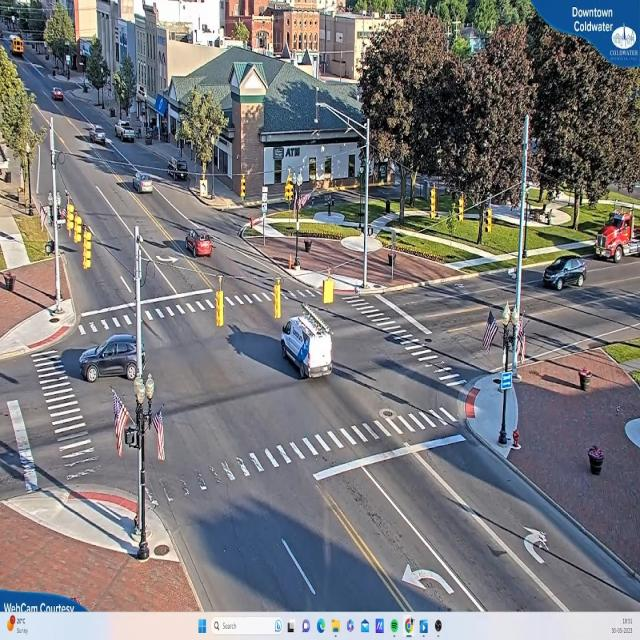car: (79, 336, 141, 383), (542, 256, 587, 291), (186, 226, 216, 262), (117, 122, 137, 144), (52, 88, 64, 101)
truck: (280, 298, 341, 395)
